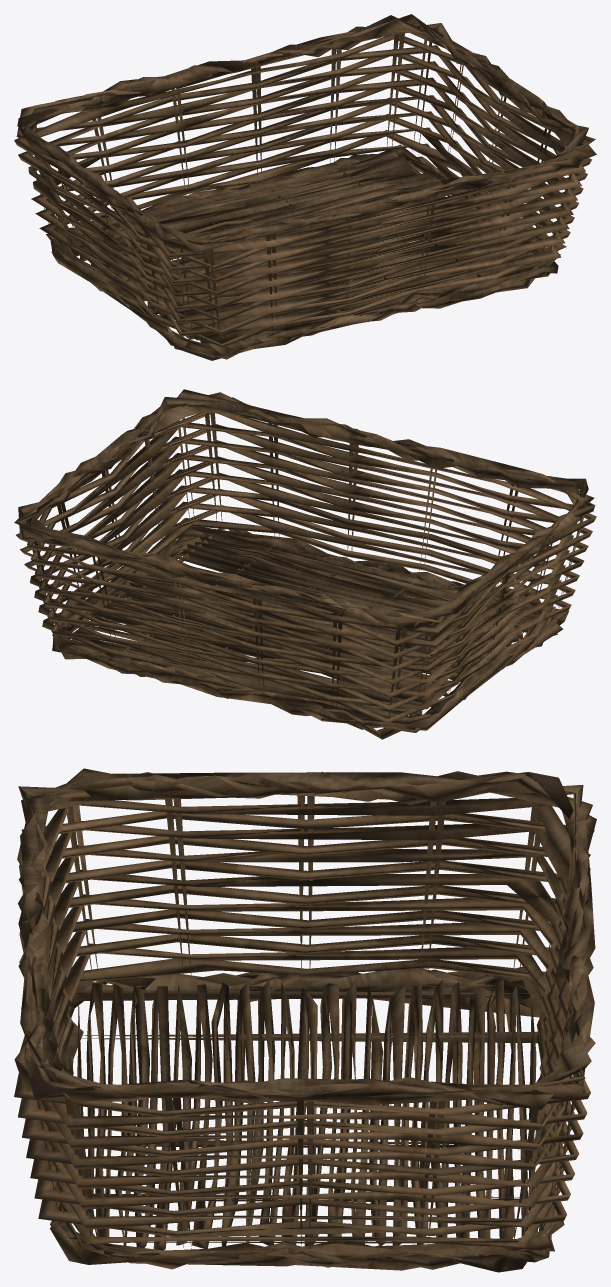
Rendered from wicker_basket_01.fbx.
3 views of the same model, one above another, from view 1: azimuth 30°, elevation 25°; view 2: azimuth 150°, elevation 25°; view 3: azimuth 270°, elevation 25° (orthographic). The views are drawn at different scales.
Visible parts, largest first — view 1: wicker_basket_01_LOD0; view 2: wicker_basket_01_LOD0; view 3: wicker_basket_01_LOD0.
Boxes of the visible parts, bbox=[...] form: wicker_basket_01_LOD0: bbox=[14, 14, 596, 360]; wicker_basket_01_LOD0: bbox=[14, 389, 596, 739]; wicker_basket_01_LOD0: bbox=[14, 768, 596, 1272].
Size of what is drawn, in the model's own units: 38.5 by 11.86 by 29.5.
Materials: 1 (1 with a texture image).
